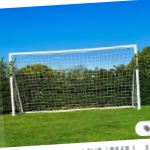goals: (8, 43, 144, 116)
